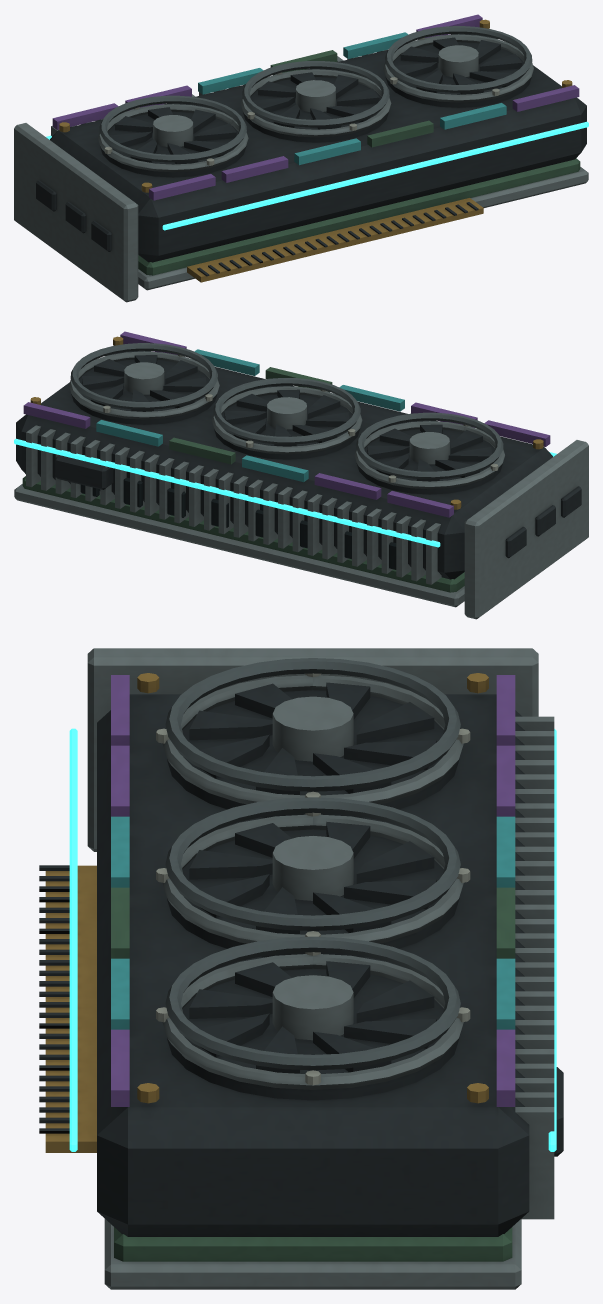
File: graphics_card.glb
3 renders of one model, top to bottom at view 1: azimuth 30°, elevation 25°; view 2: azimuth 150°, elevation 25°; view 3: azimuth 270°, elevation 25°, orthographic. The views are drawn at different scales.
Visible parts, largest first — view 1: graphics_card_static_0, Continuous GPU light guide; view 2: graphics_card_static_0, Continuous GPU light guide.001; view 3: graphics_card_static_0, Continuous GPU light guide, Continuous GPU light guide.001.
Boxes of the visible parts, x1,y1,x2,y2 form: graphics_card_static_0: [14, 14, 588, 302]; Continuous GPU light guide: [162, 121, 588, 230]; graphics_card_static_0: [14, 331, 588, 619]; Continuous GPU light guide.001: [14, 438, 440, 547]; graphics_card_static_0: [39, 648, 563, 1289]; Continuous GPU light guide: [69, 728, 77, 1151]; Continuous GPU light guide.001: [548, 729, 556, 1151].
Bounding box in the file's own units: 0.354 × 0.081 × 0.1685.
2 materials, 1 textured.
